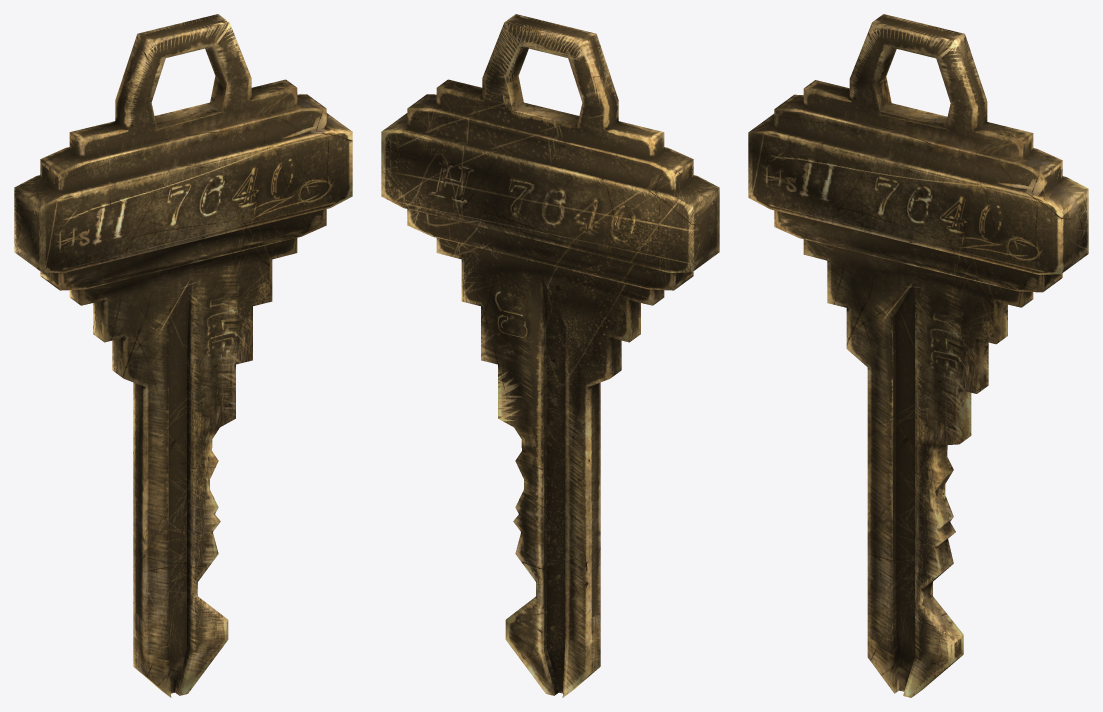
Rendered from key02.FBX.
3 views of the same model, side by side, from view 1: azimuth 30°, elevation 25°; view 2: azimuth 150°, elevation 25°; view 3: azimuth 330°, elevation 25° (orthographic).
Visible parts, largest first — view 1: SM_Key02; view 2: SM_Key02; view 3: SM_Key02.
Boxes of the visible parts, box(x1,y1,x2,y2) form: SM_Key02: box(14, 14, 352, 697); SM_Key02: box(381, 14, 719, 697); SM_Key02: box(748, 14, 1088, 697).
Size of the model in its own units: 4.91 by 9.98 by 0.7487.
Materials: 1 (1 with a texture image).
